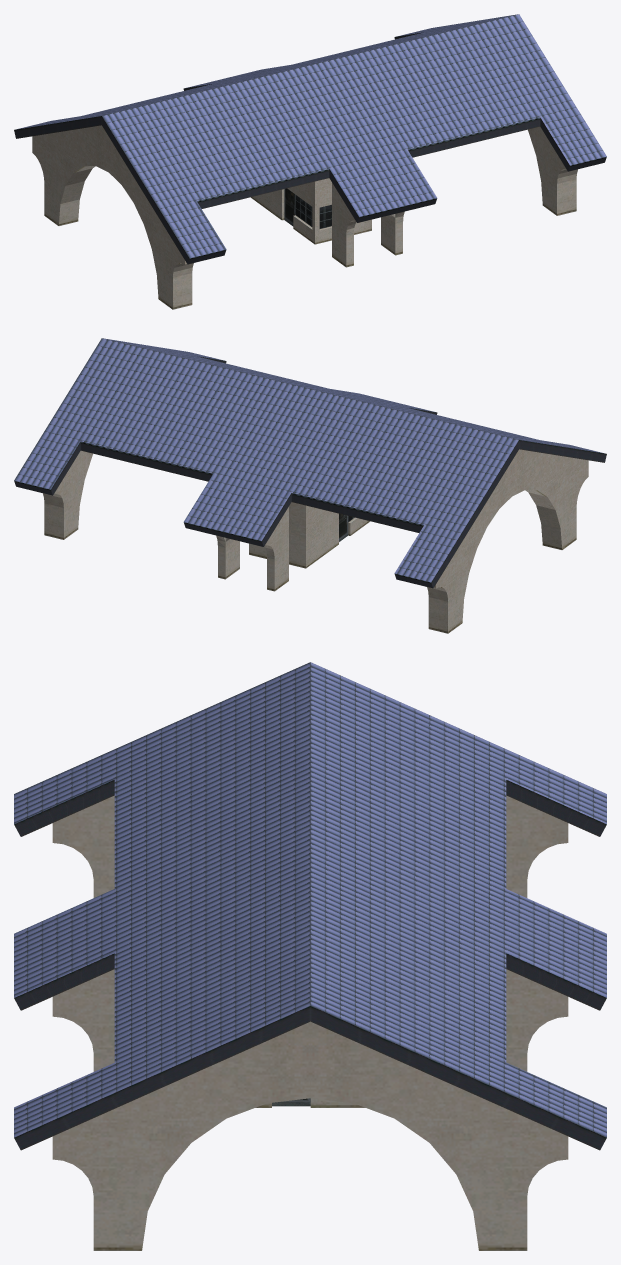
File: vgnhsegate1.obj
The picture shows the model from 3 angles, top to bottom: view 1: azimuth 30°, elevation 25°; view 2: azimuth 150°, elevation 25°; view 3: azimuth 270°, elevation 25°; orthographic projection. The views are drawn at different scales.
Visible parts, largest first — view 1: vgnhsegate1; view 2: vgnhsegate1; view 3: vgnhsegate1.
Part boxes in pixels (x1=…): vgnhsegate1: x1=14, y1=14, x2=606, y2=309; vgnhsegate1: x1=14, y1=338, x2=606, y2=633; vgnhsegate1: x1=14, y1=662, x2=606, y2=1250.
Bounding box in the file's own units: 26.56 × 9.03 × 19.36.
Materials: 5 (5 with a texture image).
